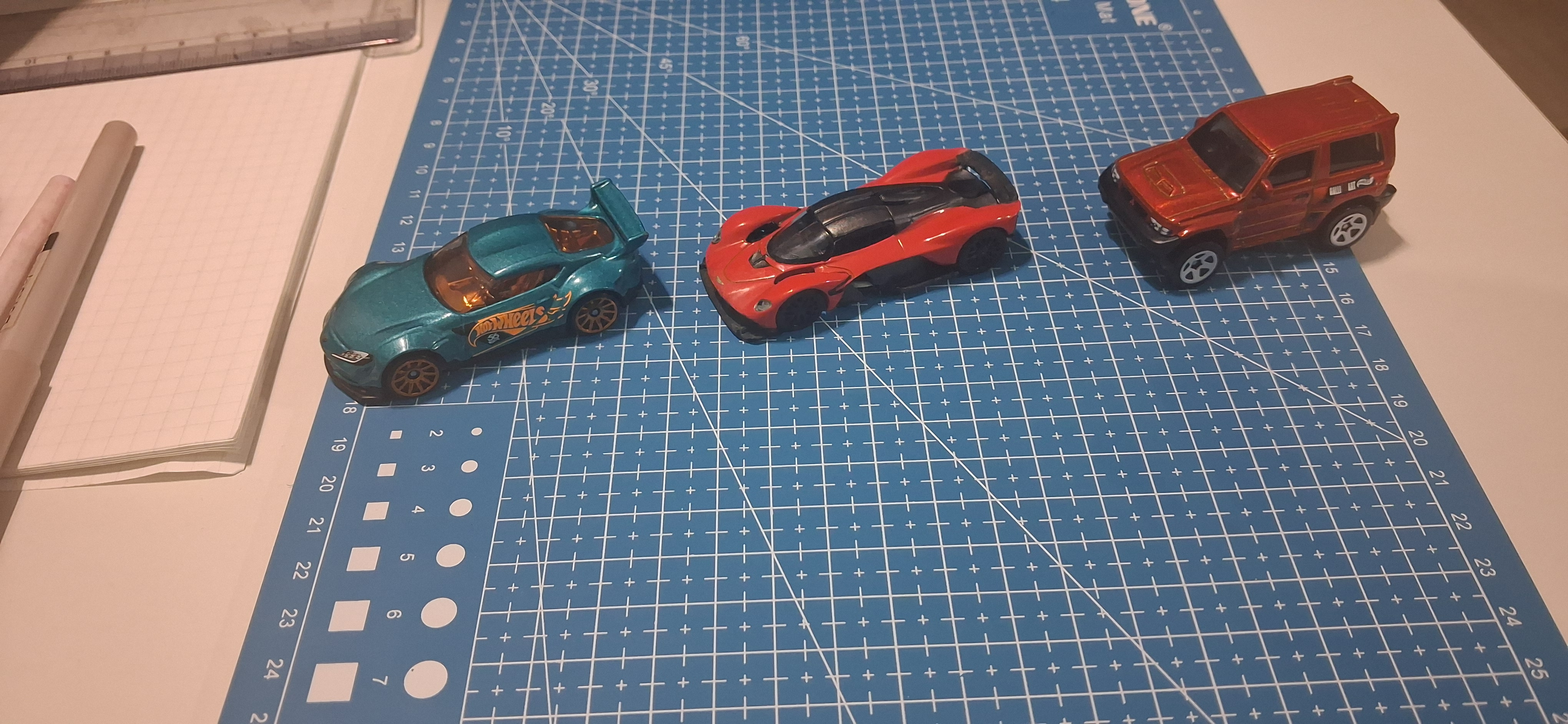Aston_Martin_Valkyrie: (689, 88, 1044, 422)
Mitsubishi_Pajero_Evolution: (1085, 27, 1436, 359)
Toyota_GR_Supra: (296, 145, 660, 459)
